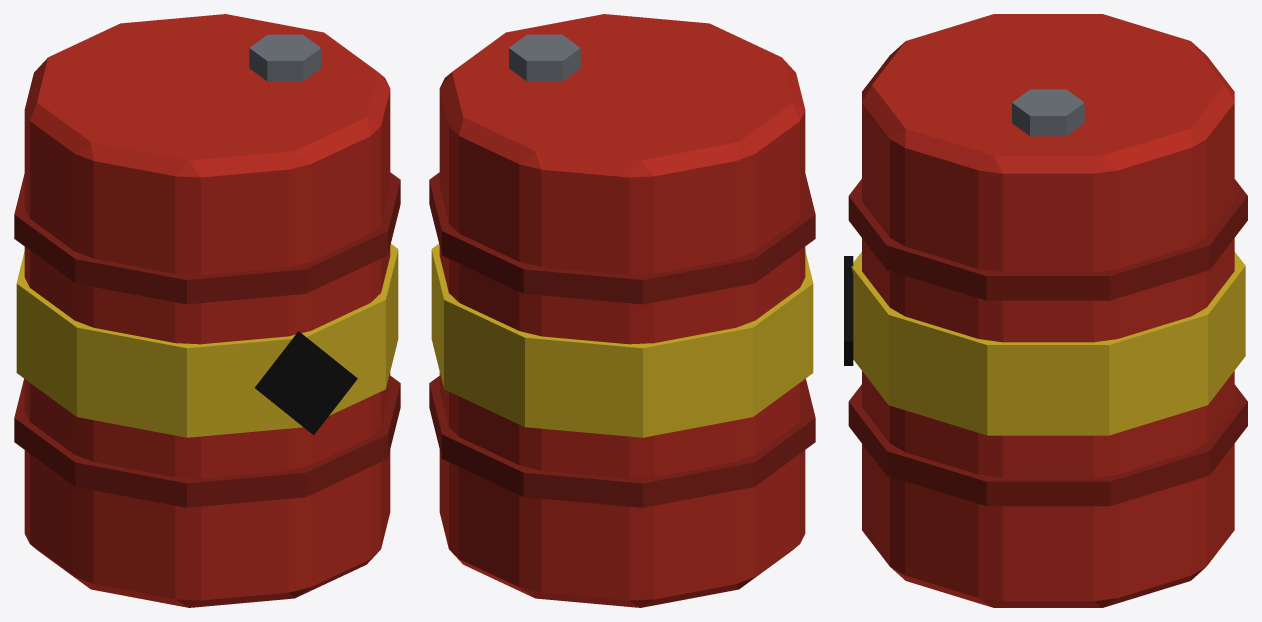
Rendered from env_barrel.glb.
3 renders of one model, left to right at view 1: azimuth 30°, elevation 25°; view 2: azimuth 150°, elevation 25°; view 3: azimuth 270°, elevation 25°, orthographic.
Parts seen in each view (by area): view 1: barrel; view 2: barrel; view 3: barrel.
Boxes of the visible parts, x1,y1,x2,y2 form: barrel: [14, 14, 400, 607]; barrel: [429, 14, 815, 607]; barrel: [844, 14, 1247, 607].
Bounding box in the file's own units: 0.8369 × 1.15 × 0.89.
Materials: 1 (1 with a texture image).
